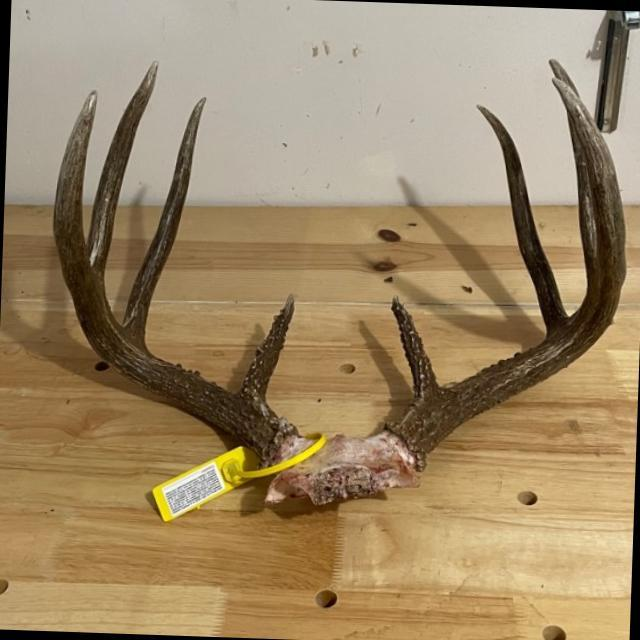L-F: (383, 77, 627, 471)
L-G1: (389, 293, 441, 398)
L-G2: (475, 103, 570, 336)
R-F: (51, 88, 299, 468)
R-G1: (237, 293, 295, 403)
R-G2: (122, 95, 206, 345)
R-G3: (86, 61, 158, 276)
